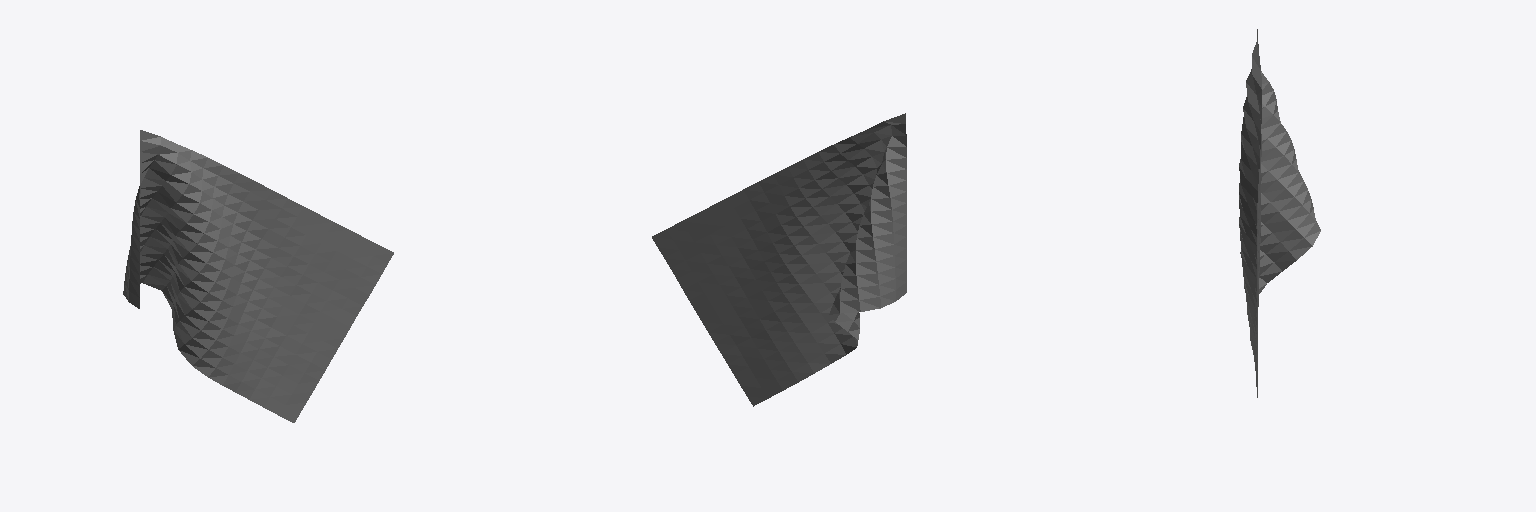
File: flag.obj
3 views of the same model, side by side, from view 1: azimuth 30°, elevation 25°; view 2: azimuth 150°, elevation 25°; view 3: azimuth 270°, elevation 25° (orthographic).
Parts seen in each view (by area): view 1: pPlane2; view 2: pPlane2; view 3: pPlane2.
Boxes of the visible parts, <box> form: pPlane2: <box>123,130,393,422</box>; pPlane2: <box>652,113,906,406</box>; pPlane2: <box>1239,29,1320,397</box>.
Size of the model in its own units: 11.12 by 13.8 by 3.13.